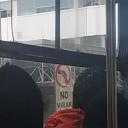NoVirarEsquerda: (51, 60, 75, 90)
